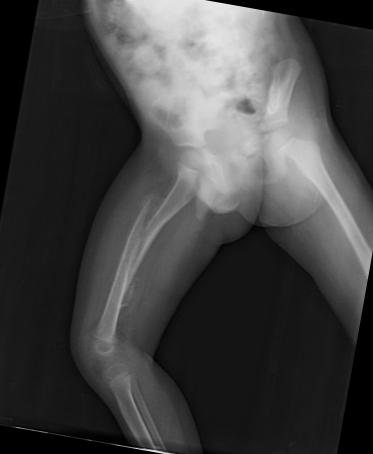fractured: (117, 192, 152, 312)
